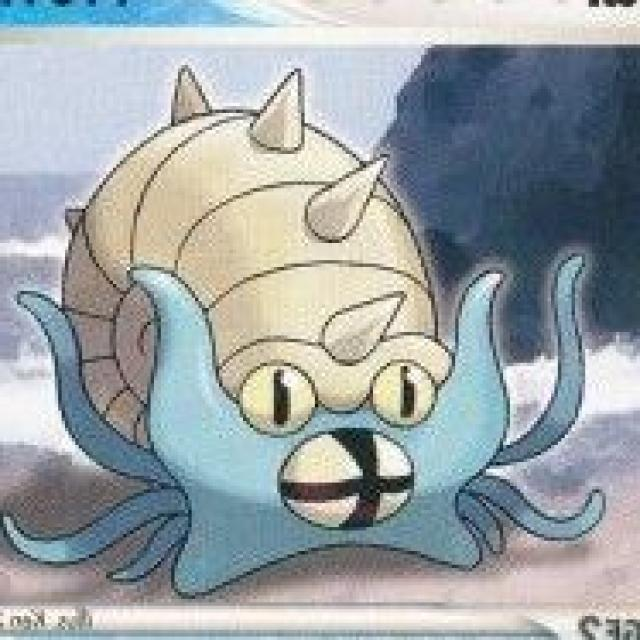Omastar: (55, 111, 511, 578)
